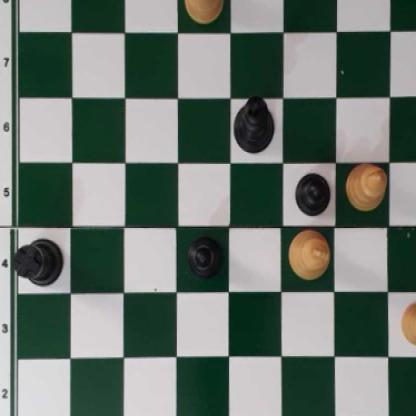black-king: (230, 96, 276, 152)
black-pawn: (295, 169, 330, 216), (188, 233, 221, 279)
black-rook: (14, 237, 65, 288)
white-bishop: (345, 164, 388, 212)
white-king: (289, 227, 329, 280)
white-pawn: (399, 299, 416, 347)
white-rook: (182, 0, 226, 21)
